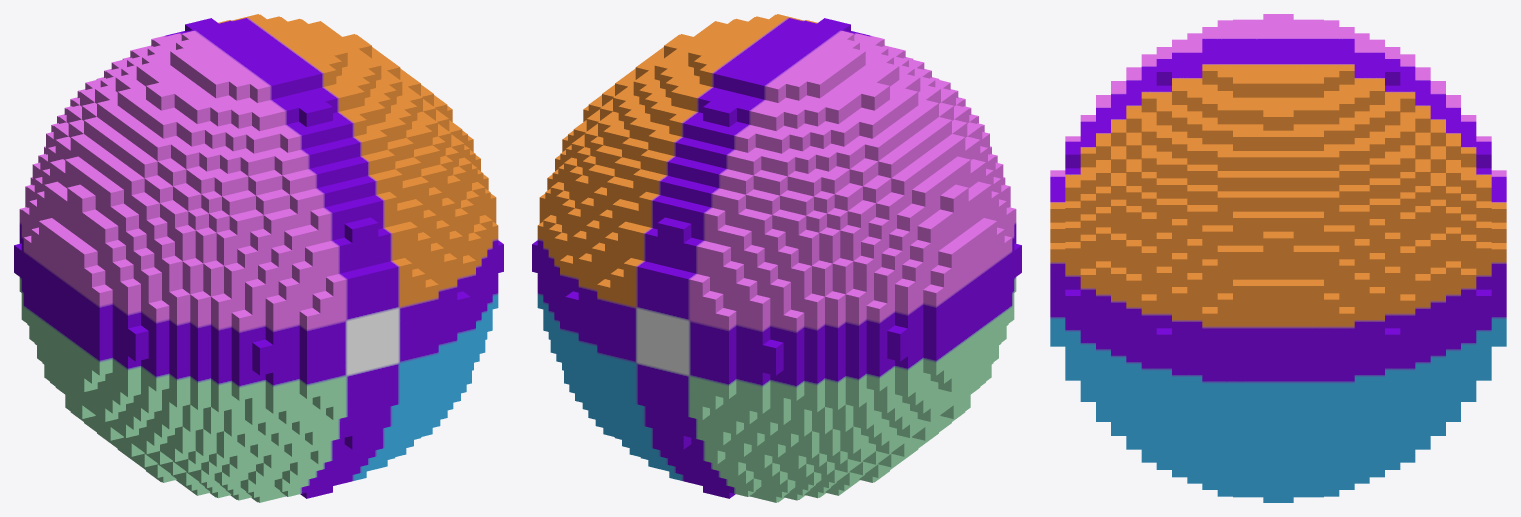
Rendered from Character_4.fbx.
The picture shows the model from 3 angles, left to right: view 1: azimuth 30°, elevation 25°; view 2: azimuth 150°, elevation 25°; view 3: azimuth 270°, elevation 25°; orthographic projection.
Parts seen in each view (by area): view 1: Character_4; view 2: Character_4; view 3: Character_4.
Boxes of the visible parts, x1,y1,x2,y2 form: Character_4: (14,14,503,502); Character_4: (532,14,1021,502); Character_4: (1050,14,1506,502).
Bounding box in the file's own units: 30 × 30 × 30.
Materials: 1 (1 with a texture image).
